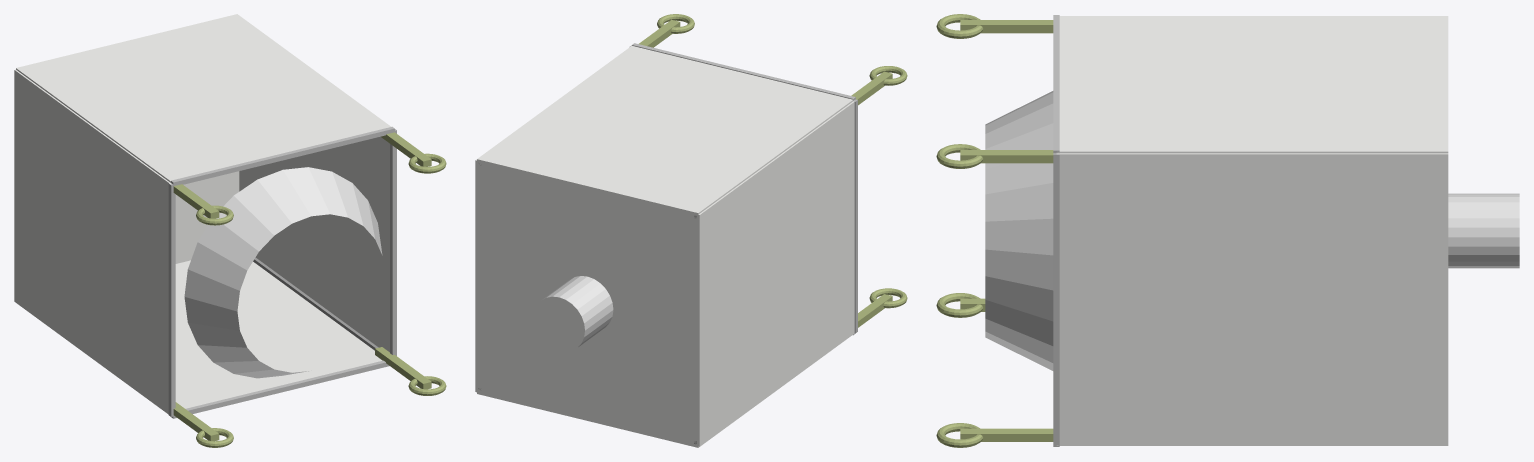
File: modelo-pollera-valvula-descarga.glb
3 views of the same model, side by side, from view 1: azimuth 30°, elevation 25°; view 2: azimuth 150°, elevation 25°; view 3: azimuth 270°, elevation 25° (orthographic). The views are drawn at different scales.
Visible parts, largest first — view 1: left_shell, back_shell, right_shell, accesorio_pollera_valvula, front_shell, bottom, top_left_rim, top_back_rim, top_front_rim, top_right_rim, side_seam_0.438, loop_strap_1 (+7 smaller); view 2: bottom, left_shell, back_shell, accesorio_pollera_valvula, top_left_rim, right_shell, top_back_rim, front_shell, loop_strap_2, loop_strap_0, loop_strap_3, loop_top_0 (+2 smaller); view 3: right_shell, back_shell, accesorio_pollera_valvula, top_right_rim, loop_strap_1, loop_strap_2, loop_strap_3, top_back_rim, loop_top_0, loop_top_1, loop_top_3, loop_top_2.
Part boxes in pixels (box(x1,y1,x2,y2)): left_shell: box(14, 69, 171, 413); back_shell: box(16, 14, 390, 182); right_shell: box(239, 136, 389, 352); accesorio_pollera_valvula: box(184, 167, 382, 378); front_shell: box(25, 260, 382, 414); bottom: box(175, 171, 239, 263); top_left_rim: box(168, 183, 175, 416); top_back_rim: box(171, 126, 394, 185); top_front_rim: box(171, 360, 389, 418); top_right_rim: box(390, 129, 396, 355); side_seam_0.438: box(253, 257, 378, 350); loop_strap_1: box(375, 347, 431, 389); bottom: box(477, 162, 698, 445); left_shell: box(697, 100, 854, 446); back_shell: box(477, 46, 853, 215); accesorio_pollera_valvula: box(542, 276, 613, 346); top_left_rim: box(854, 99, 857, 333); right_shell: box(475, 159, 478, 392); top_back_rim: box(632, 43, 855, 100); front_shell: box(477, 351, 830, 447); loop_strap_2: box(851, 71, 892, 105); loop_strap_0: box(858, 294, 892, 327); loop_strap_3: box(639, 19, 680, 47); loop_top_0: box(869, 288, 907, 308); right_shell: box(1056, 153, 1448, 444); back_shell: box(1056, 16, 1448, 153); accesorio_pollera_valvula: box(985, 91, 1519, 370); top_right_rim: box(1053, 153, 1059, 445); loop_strap_1: box(960, 428, 1053, 441); loop_strap_2: box(960, 20, 1053, 33); loop_strap_3: box(960, 150, 1053, 163); top_back_rim: box(1053, 15, 1059, 153); loop_top_0: box(936, 293, 983, 317); loop_top_1: box(936, 423, 983, 447); loop_top_3: box(936, 144, 983, 168); loop_top_2: box(936, 14, 983, 38).
Bounding box in the file's own units: 0.998 × 0.918 × 1.64.
